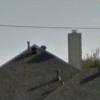Chimney: (58, 22, 84, 73)
